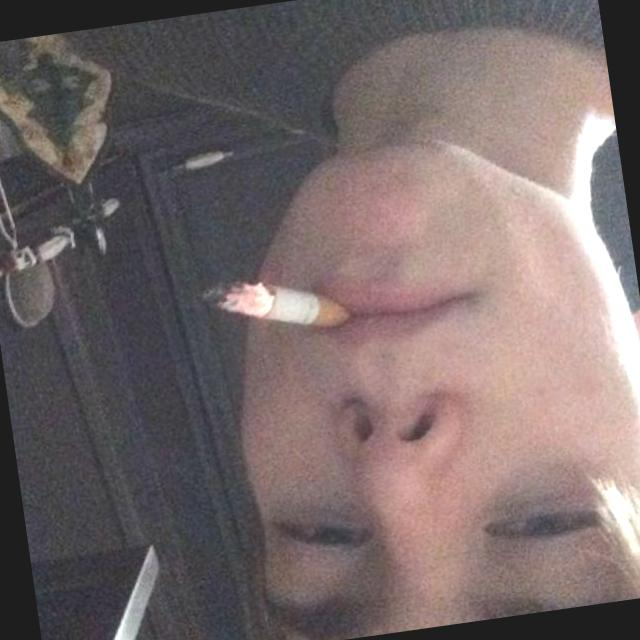smoke: (154, 238, 371, 384)
